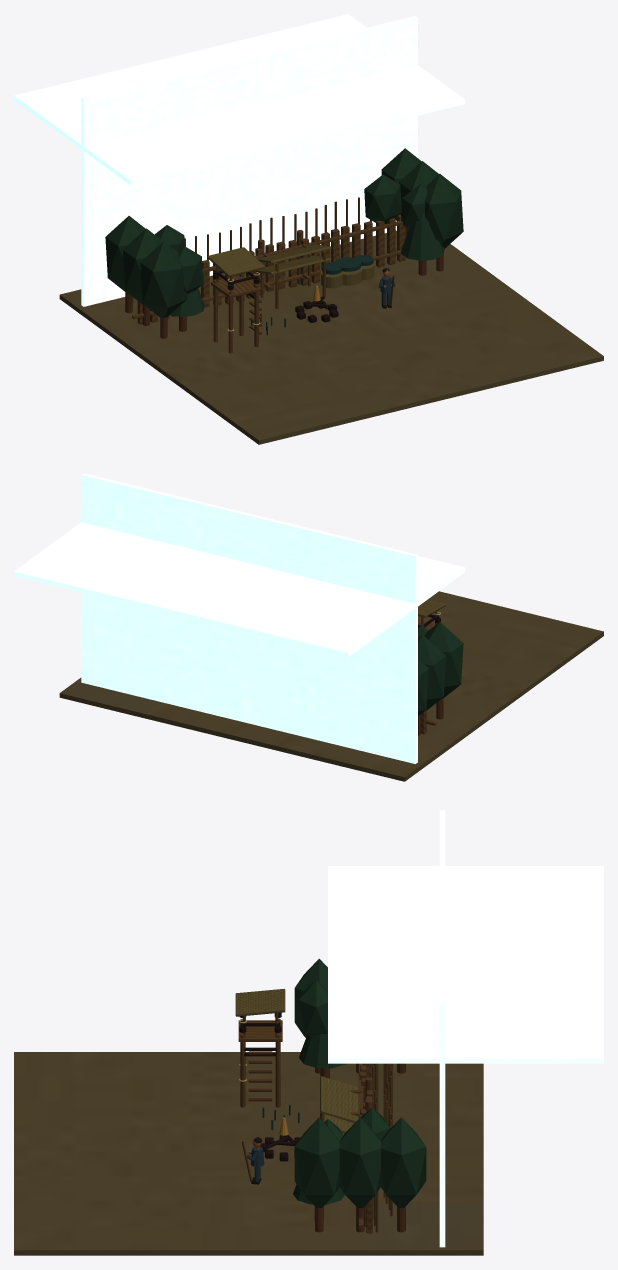
The model's file is room.glb.
3 renders of one model, top to bottom at view 1: azimuth 30°, elevation 25°; view 2: azimuth 150°, elevation 25°; view 3: azimuth 270°, elevation 25°, orthographic. The views are drawn at different scales.
Parts seen in each view (by area): view 1: Open sky backdrop, Clearing ground, Forest fringe crown, Pagar bambu, Menara jaga.023, Forest fringe trunk, Menara jaga.001, Storage basket.001; view 2: Open sky backdrop, Clearing ground, Forest fringe crown; view 3: Clearing ground, Open sky backdrop, Forest fringe crown, Pagar bambu, Menara jaga.023, Forest fringe trunk, Menara jaga.001.
Part boxes in pixels (x1,y1,x2,y2): Open sky backdrop: (14, 14, 465, 306); Clearing ground: (59, 230, 603, 444); Forest fringe crown: (105, 148, 463, 318); Pagar bambu: (131, 197, 408, 353); Menara jaga.023: (207, 244, 374, 288); Forest fringe trunk: (125, 227, 443, 338); Menara jaga.001: (213, 270, 338, 322); Storage basket.001: (321, 255, 373, 274); Open sky backdrop: (14, 473, 465, 763); Clearing ground: (59, 591, 603, 781); Forest fringe crown: (418, 622, 463, 715); Clearing ground: (14, 1052, 483, 1255); Open sky backdrop: (328, 810, 603, 1247); Forest fringe crown: (293, 958, 426, 1208); Pagar bambu: (238, 1013, 392, 1233); Menara jaga.023: (235, 988, 358, 1133); Forest fringe trunk: (248, 1051, 405, 1232); Menara jaga.001: (239, 1012, 300, 1161).
Bounding box in the file's own units: 16 × 9.6 × 20.1.
13 materials, 13 textured.
